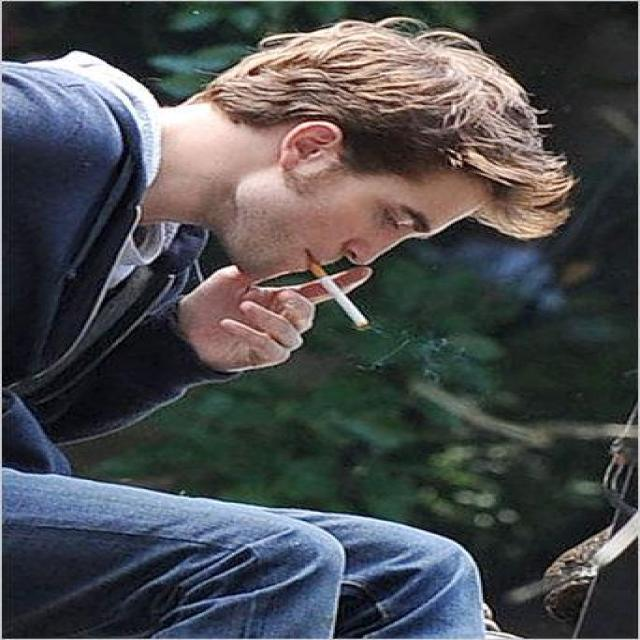cigarette: (292, 257, 397, 351)
